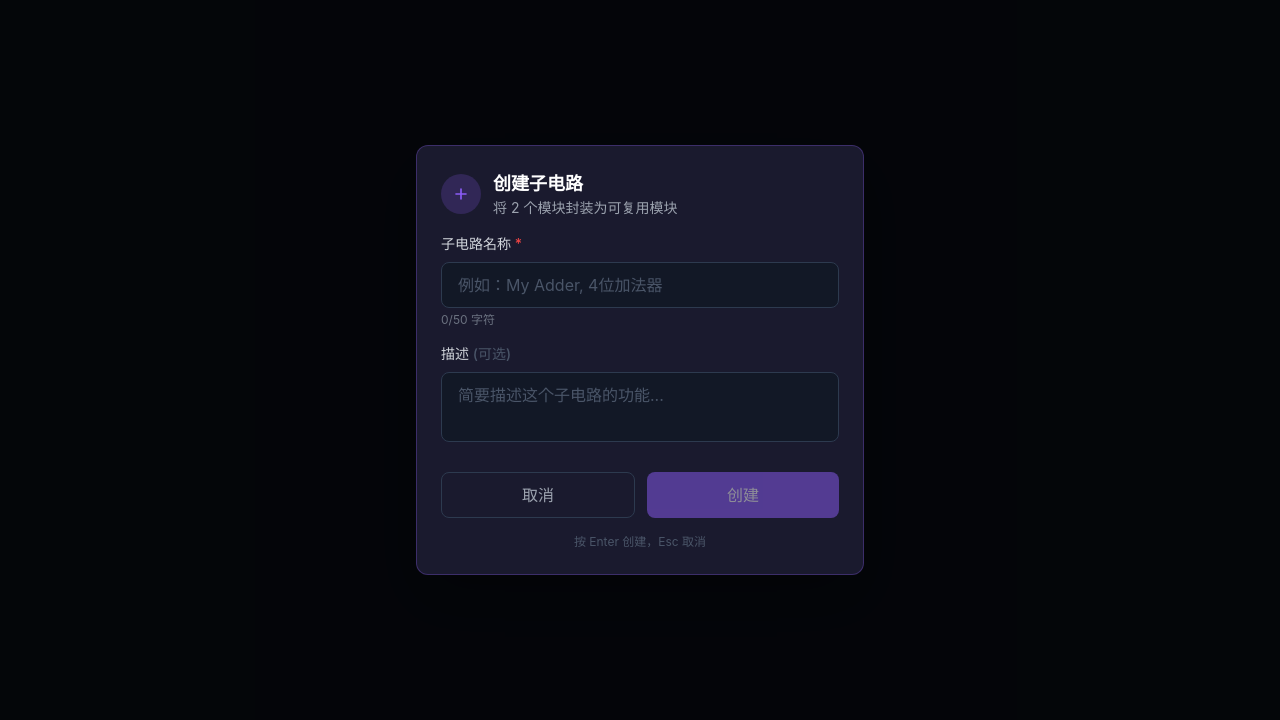
Test case: Negative Assertions - Button State › AC-153-001: Create Sub-Circuit button disabled state › should enable create button when 2+ modules selected and name filled
Type "Valid Name" into the field labelled "子电路名称 *".
click(640, 285); type("Valid Name")  # box [441,262,839,308]
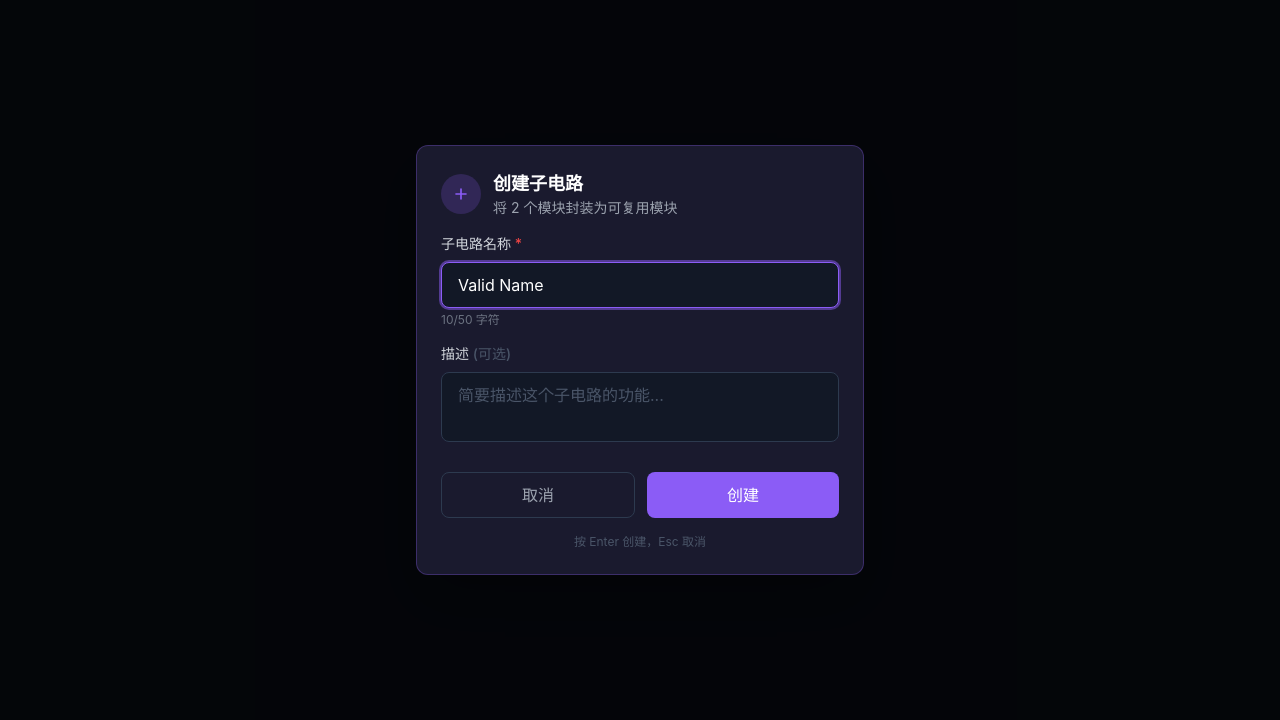
Now the button "创建" is enabled, box [647,472,839,518]
